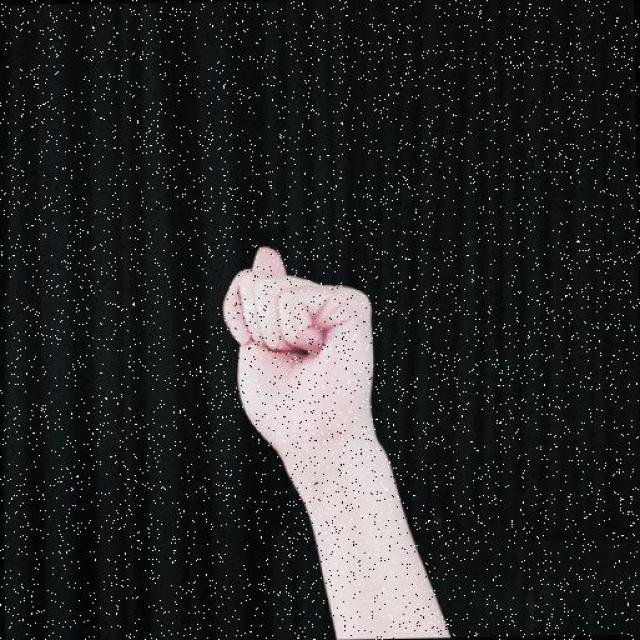T: (218, 242, 395, 460)
